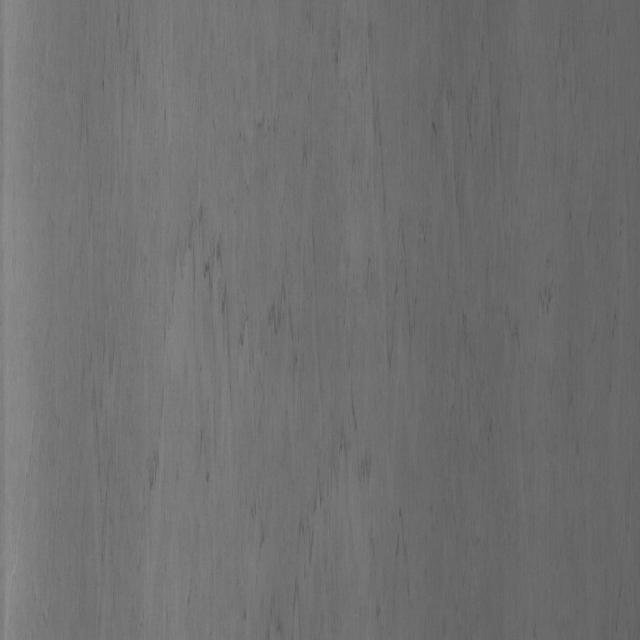inclusion: (142, 58, 572, 612)
